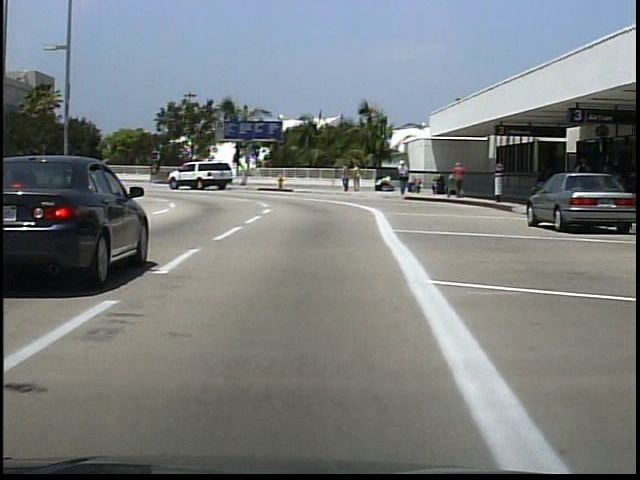person: (572, 153, 595, 211), (454, 160, 470, 197), (396, 158, 410, 200), (354, 162, 365, 195), (342, 163, 353, 195)
